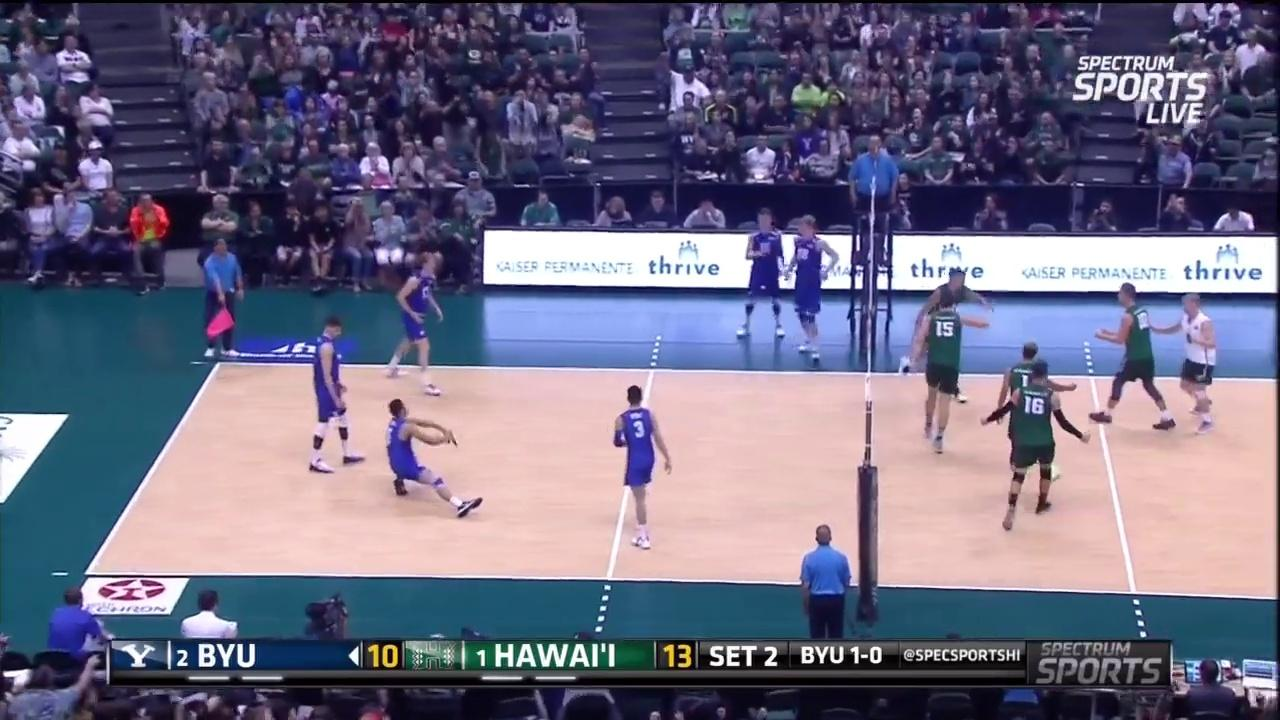player: (1087, 279, 1176, 433), (991, 361, 1067, 529), (386, 398, 480, 518), (906, 269, 980, 407), (608, 386, 668, 548), (386, 254, 449, 396), (999, 334, 1060, 476), (912, 294, 966, 451), (731, 206, 786, 338), (307, 320, 353, 469), (794, 216, 836, 376), (1172, 294, 1221, 429)
refree: (849, 131, 899, 262), (800, 525, 851, 642), (198, 235, 245, 359)
